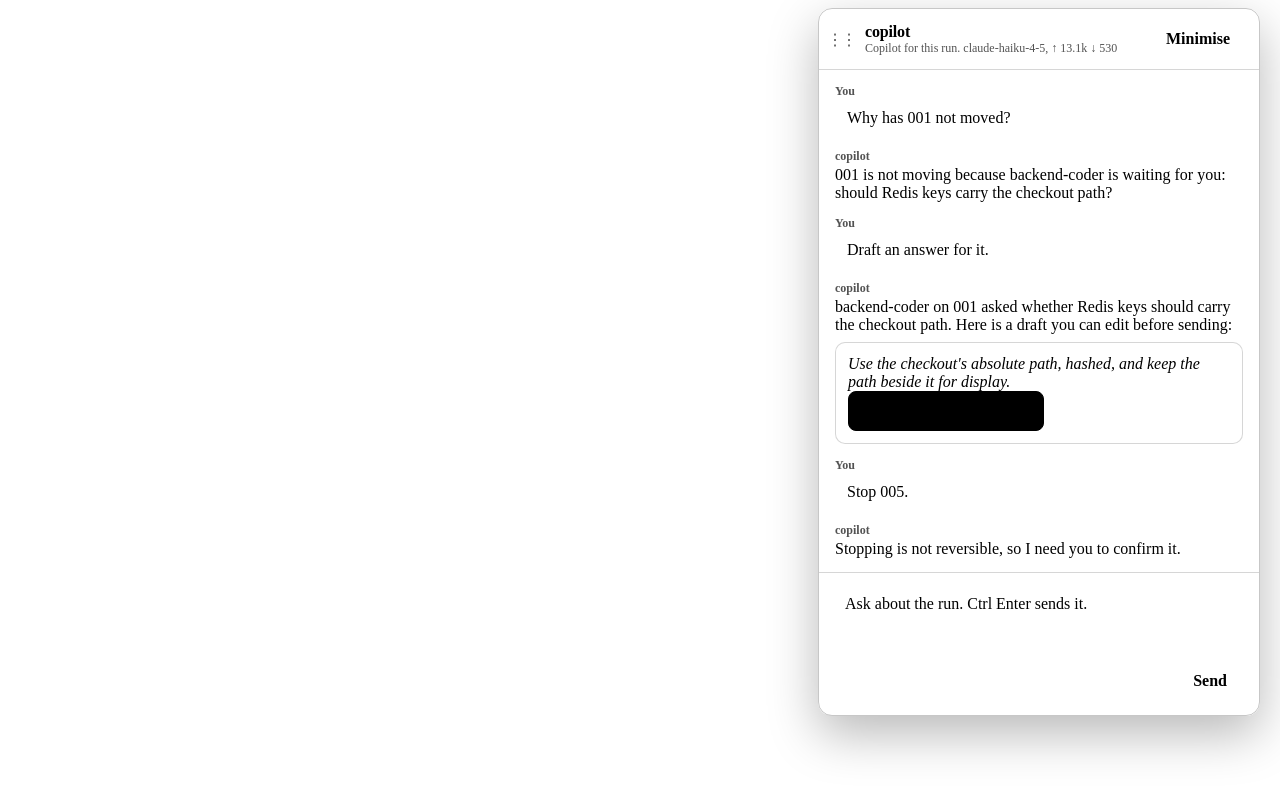
says the status when a refusal carries no reason
The image size is (1280, 800).
Type "hi" into the text box named "Message copilot" at (1039, 617), box [835,585,1243,649]
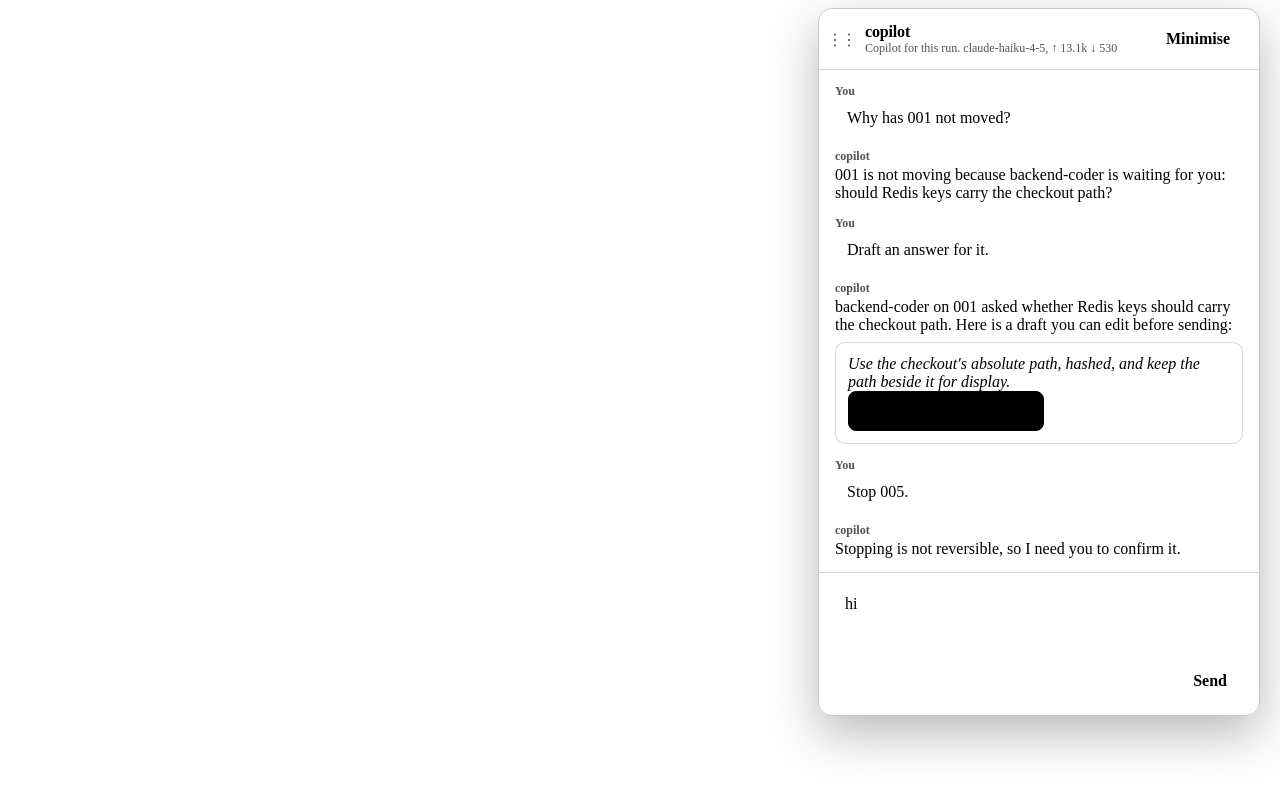
Click the button "Send" at (1210, 681), box [1177,661,1243,701]
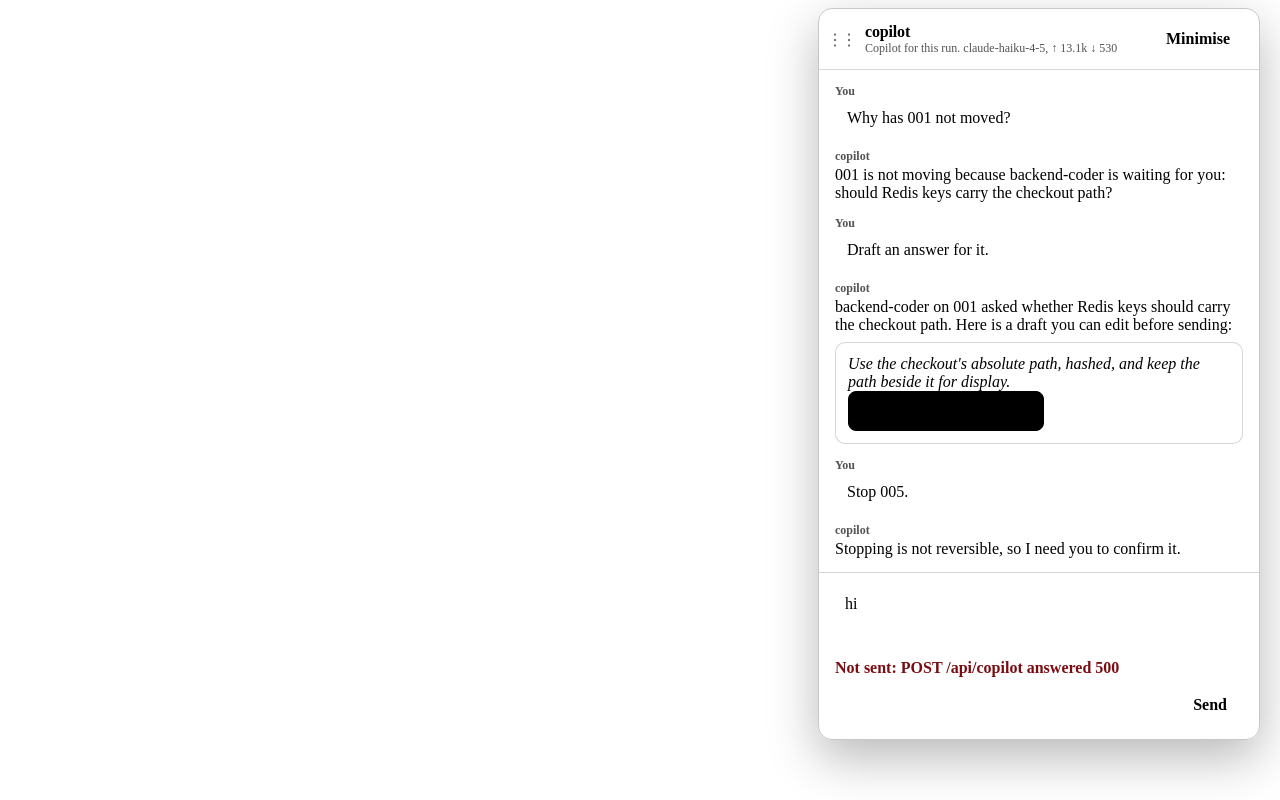
Now the message reads "Not sent: POST /api/copilot answered 500", box [835,659,1119,676]
